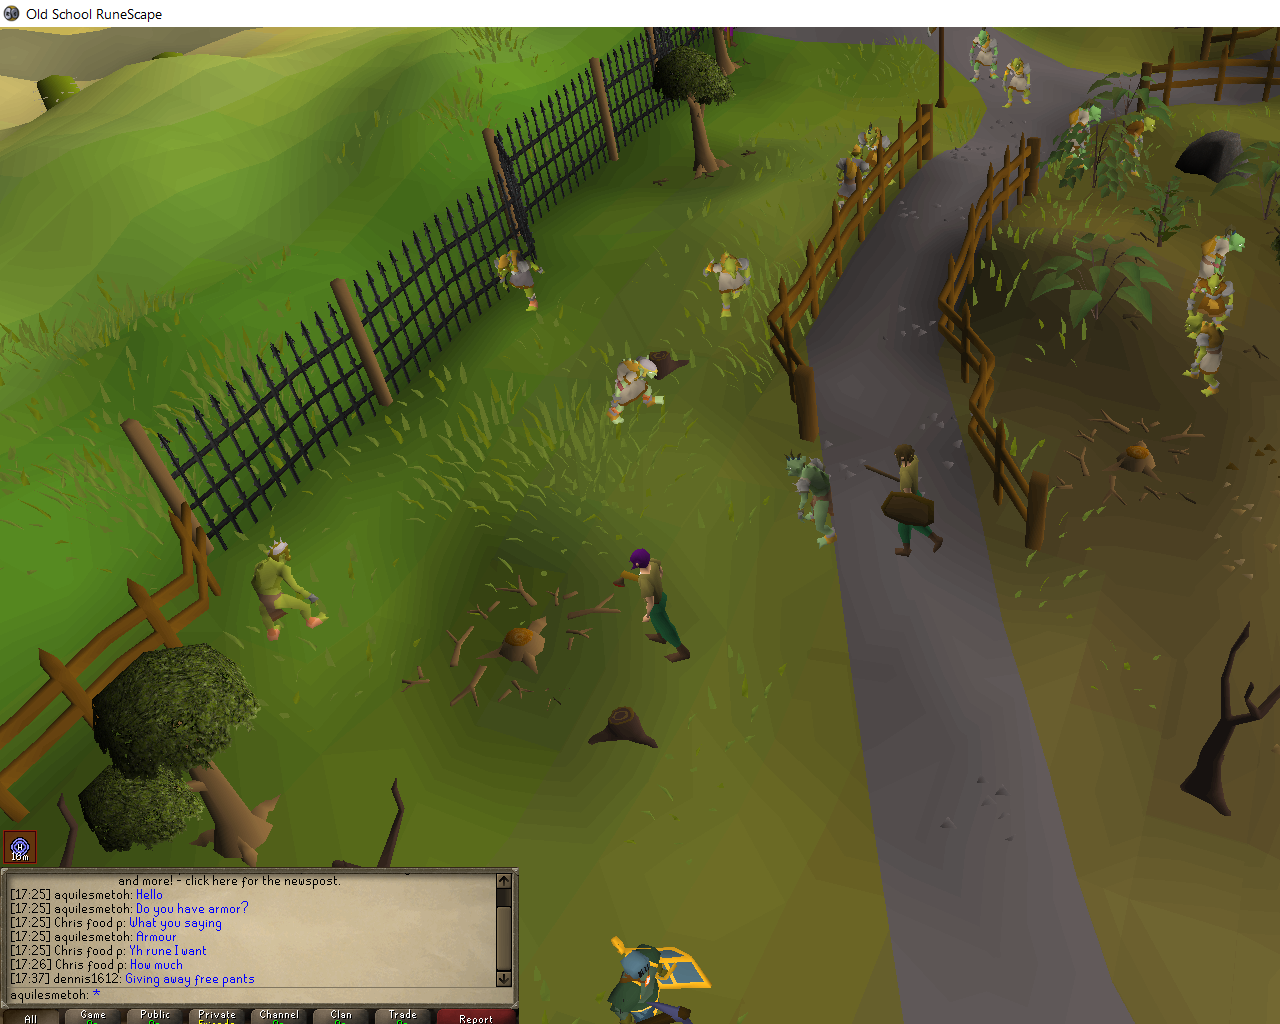Goblin: (249, 536, 335, 639), (779, 452, 843, 550), (602, 354, 672, 424), (1184, 315, 1236, 397), (492, 245, 552, 315), (699, 251, 752, 321), (1183, 273, 1239, 333), (830, 143, 872, 217), (1198, 226, 1247, 288), (859, 124, 899, 190), (1119, 114, 1156, 181), (1064, 100, 1099, 168), (1002, 56, 1035, 113), (965, 30, 999, 87)
